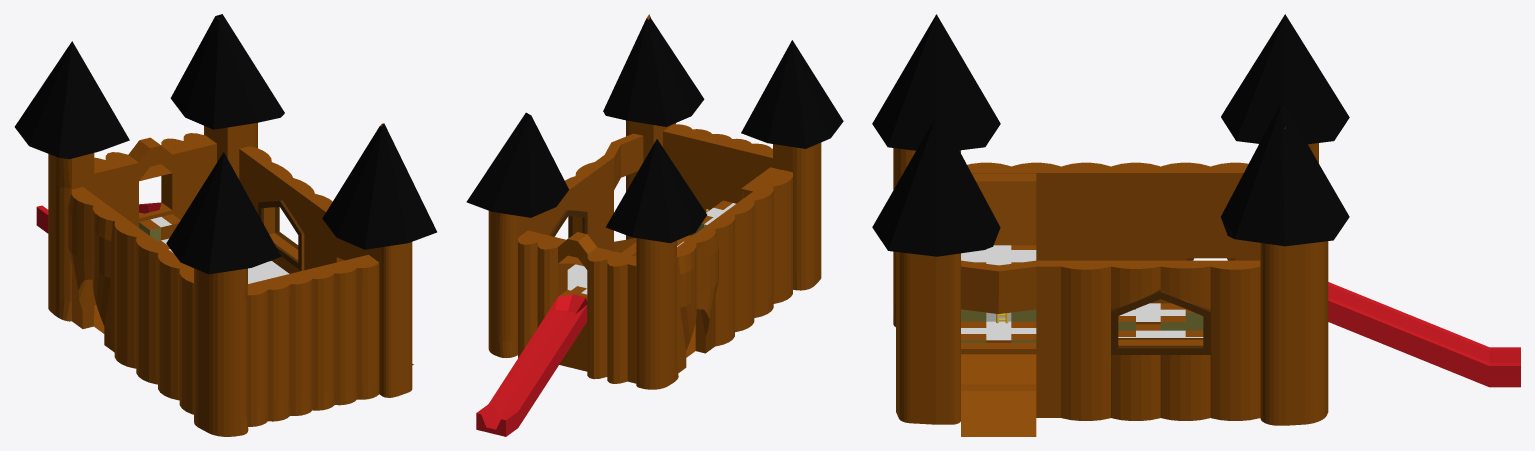
File: kasteel.fbx
3 renders of one model, left to right at view 1: azimuth 30°, elevation 25°; view 2: azimuth 150°, elevation 25°; view 3: azimuth 270°, elevation 25°, orthographic. The views are drawn at different scales.
Parts seen in each view (by area): view 1: Plane; view 2: Plane; view 3: Plane.
Boxes of the visible parts, x1,y1,x2,y2 form: Plane: [14, 14, 436, 436]; Plane: [466, 14, 843, 436]; Plane: [872, 14, 1520, 436].
Bounding box in the file's own units: 19828 × 21391 × 39662.
